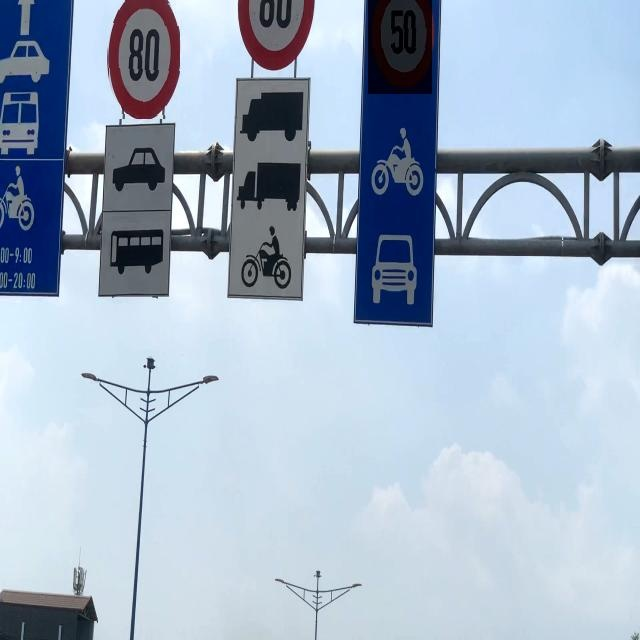bien_hieu_lenh: (107, 0, 180, 119), (368, 0, 432, 94)
